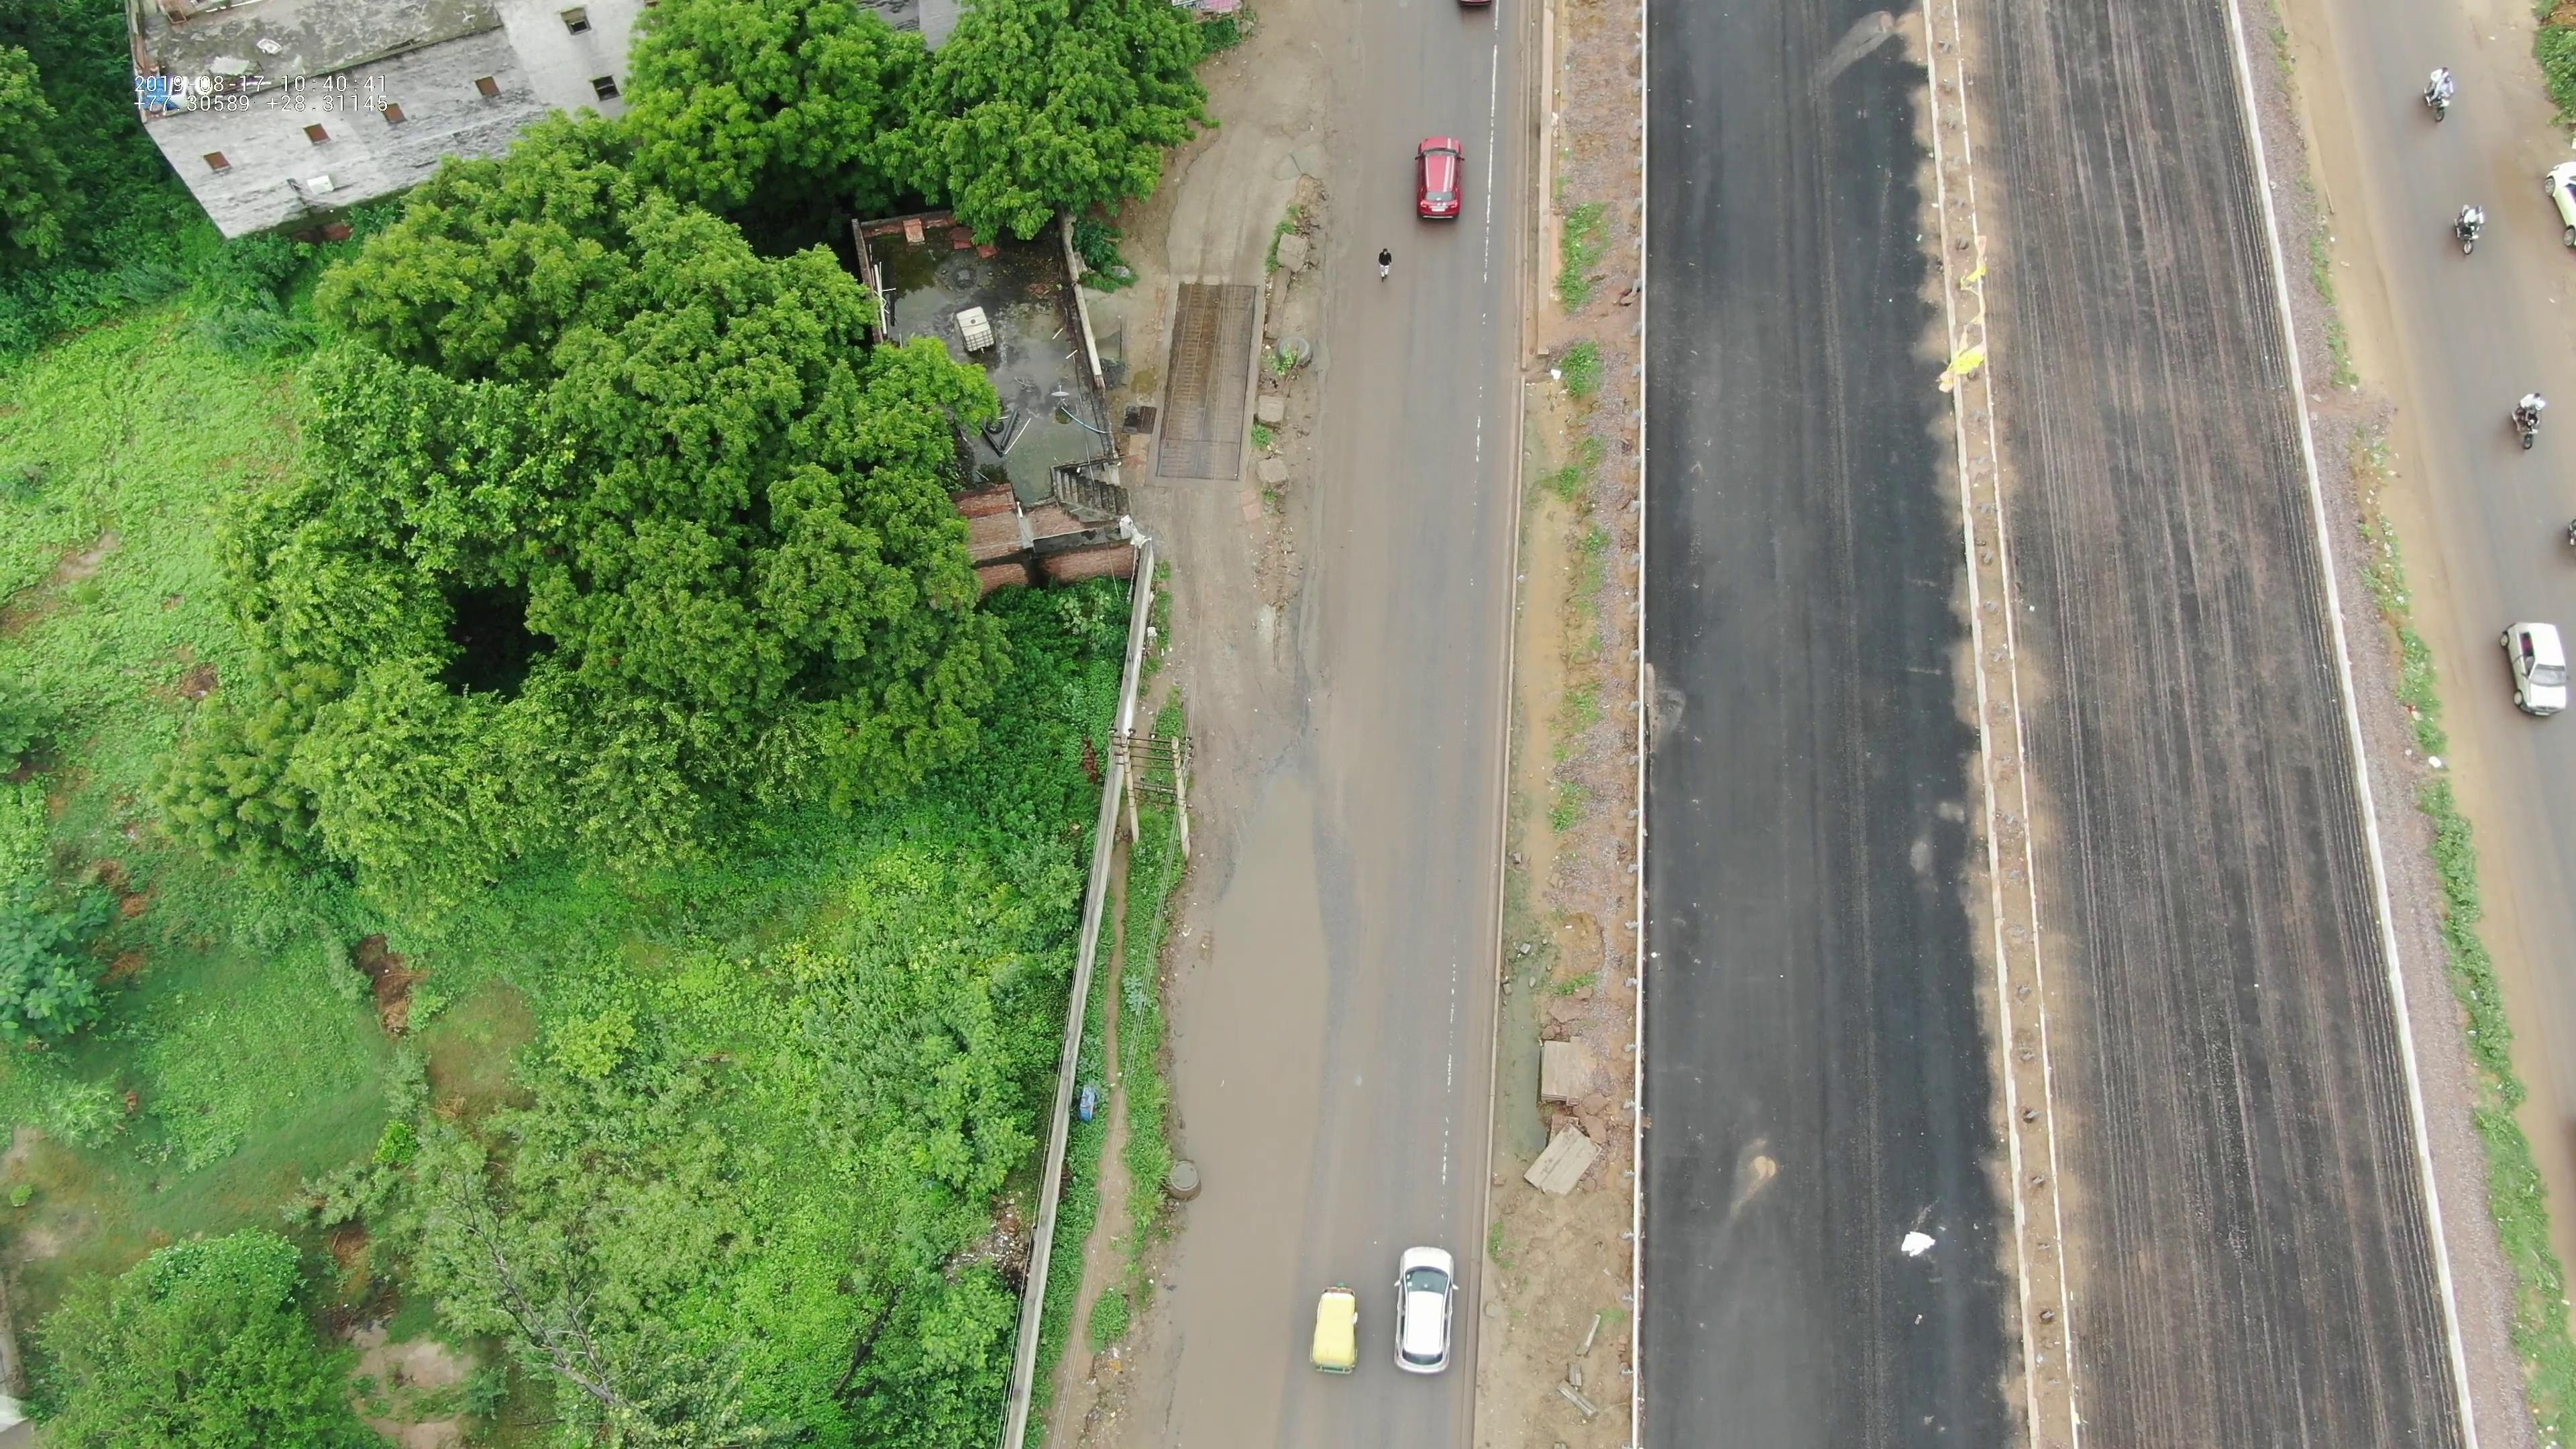Waterlogging: (1138, 755, 1346, 1444)
